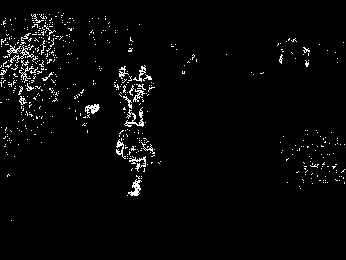person: (114, 116, 155, 200), (133, 58, 154, 128), (116, 66, 135, 126)
